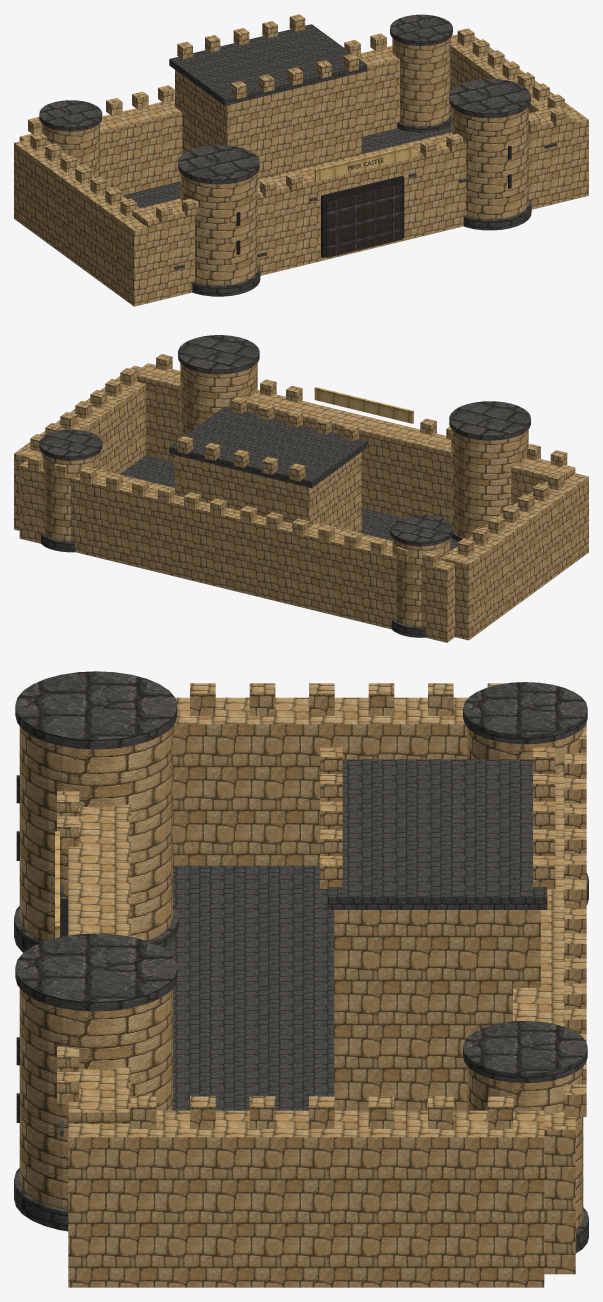
The model's file is castle-gate.glb.
The picture shows the model from 3 angles, top to bottom: view 1: azimuth 30°, elevation 25°; view 2: azimuth 150°, elevation 25°; view 3: azimuth 270°, elevation 25°; orthographic projection. The views are drawn at different scales.
Parts seen in each view (by area): view 1: mfer_castle_solid_closed; view 2: mfer_castle_solid_closed; view 3: mfer_castle_solid_closed.
Part boxes in pixels (x1,y1,x2,y2): mfer_castle_solid_closed: (14, 14, 588, 306); mfer_castle_solid_closed: (14, 335, 588, 642); mfer_castle_solid_closed: (14, 671, 588, 1287).
Size of the model in its own units: 33.2 by 9.21 by 18.36.
Materials: 7 (6 with a texture image).
